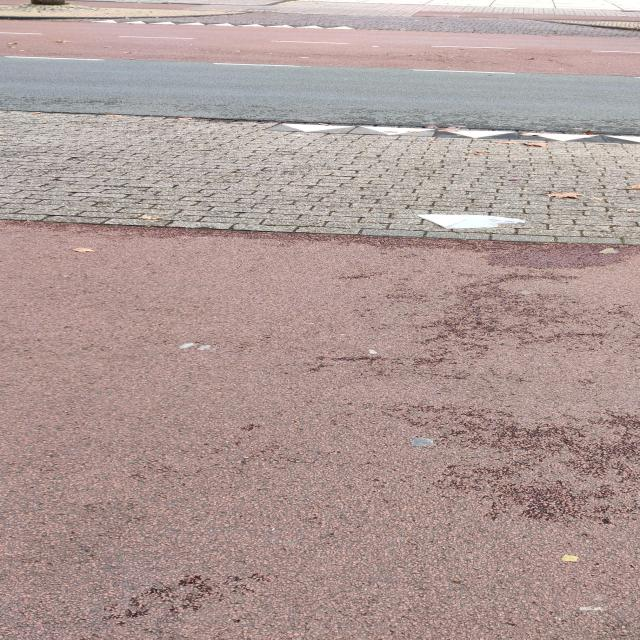litter: (415, 215, 528, 229)
